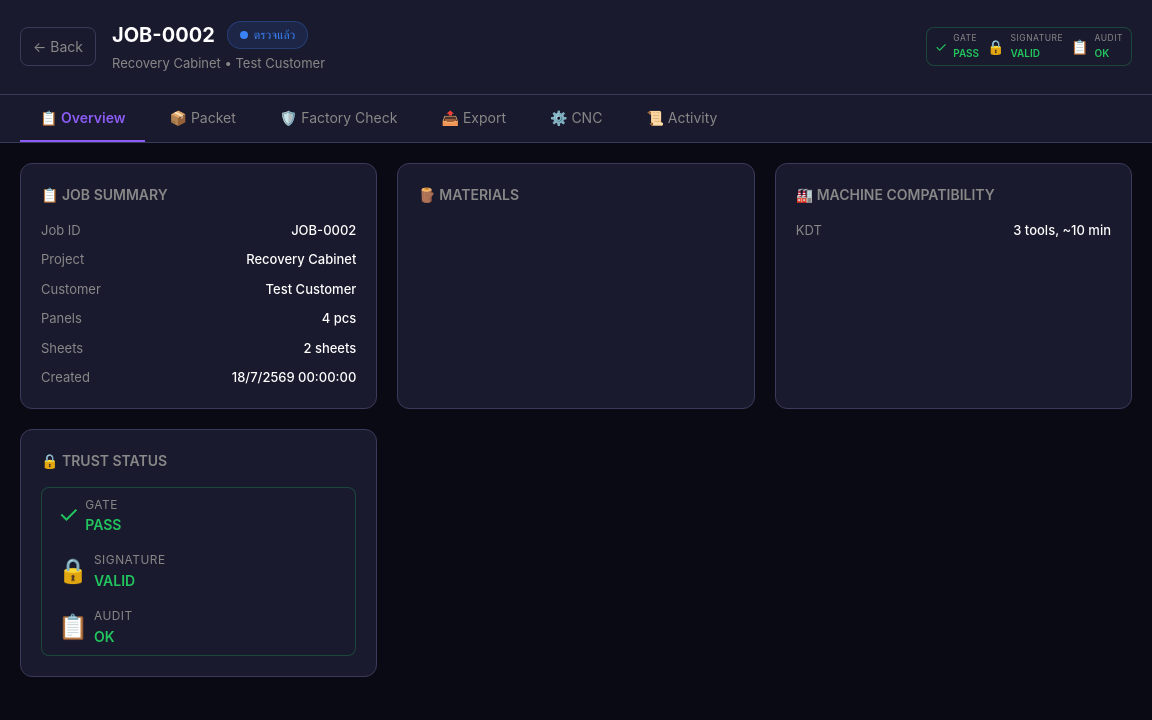
Test: JobDetail — Export tab recovery (S18 L2 PR #22 fixes) › shows the export-options error with a retry button that refetches
Click the button "📤 Export": coordinates (474, 118) [422,94,526,142]
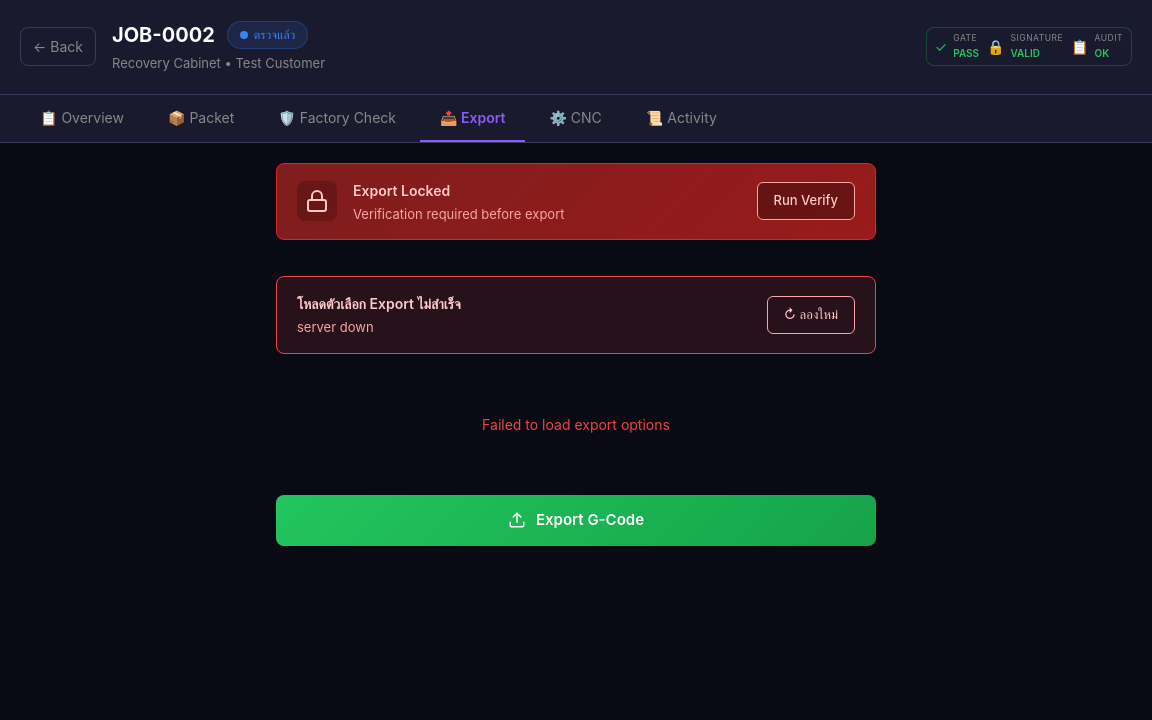
Check: the text "server down" is shown, box [297,319,374,335]
// Retry calls fetchExportOptions again (store clears the error first)
Click the button "↻ ลองใหม่": coordinates (811, 315) [767,296,855,334]
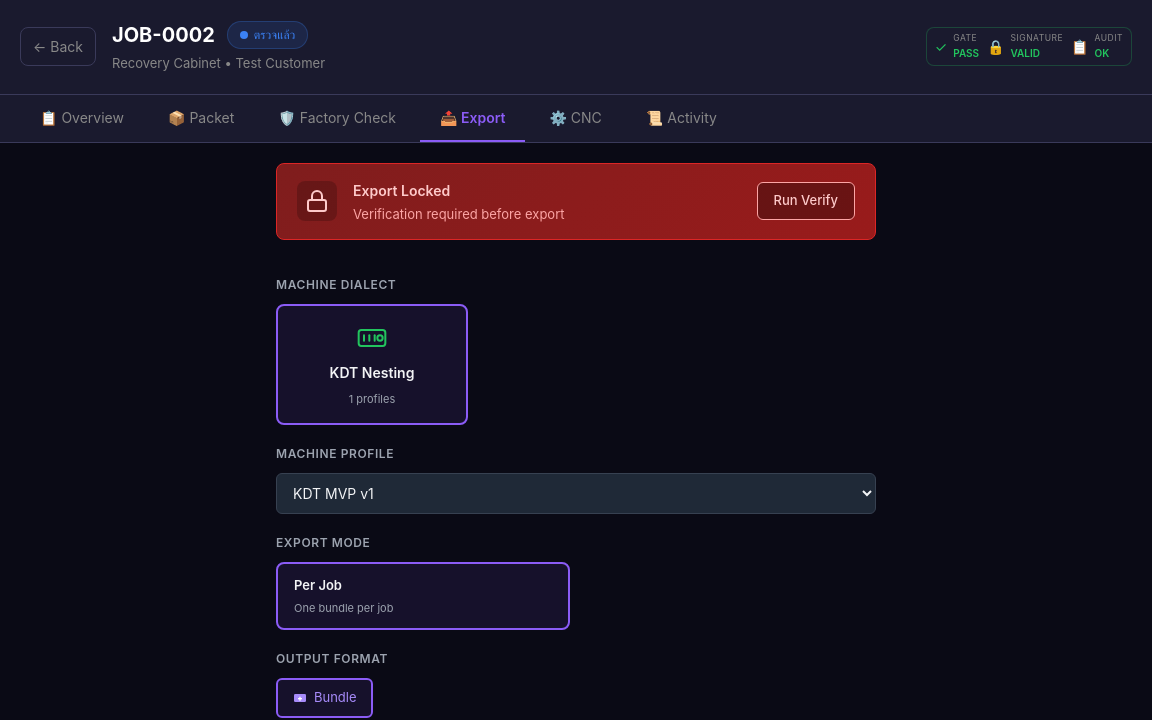
Check: the text "server down" is gone
Check: the button "ลองใหม่" is gone
